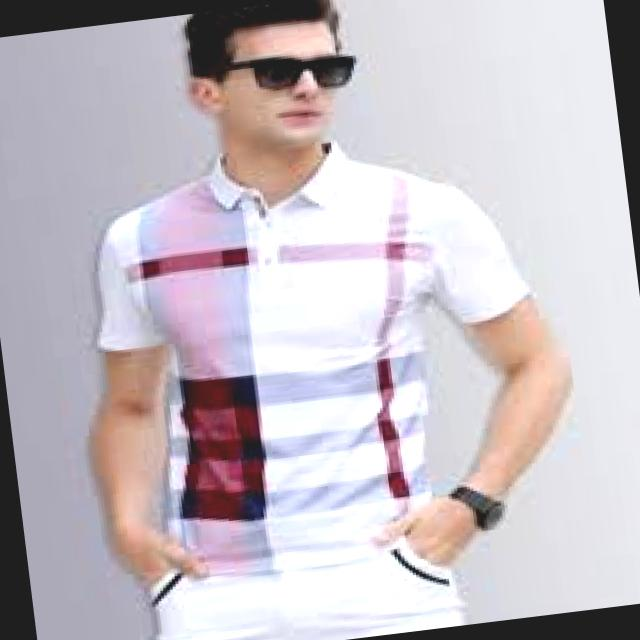face: (189, 68, 335, 149)
lower-wear: (151, 536, 466, 639)
top-wear: (97, 141, 529, 574)
